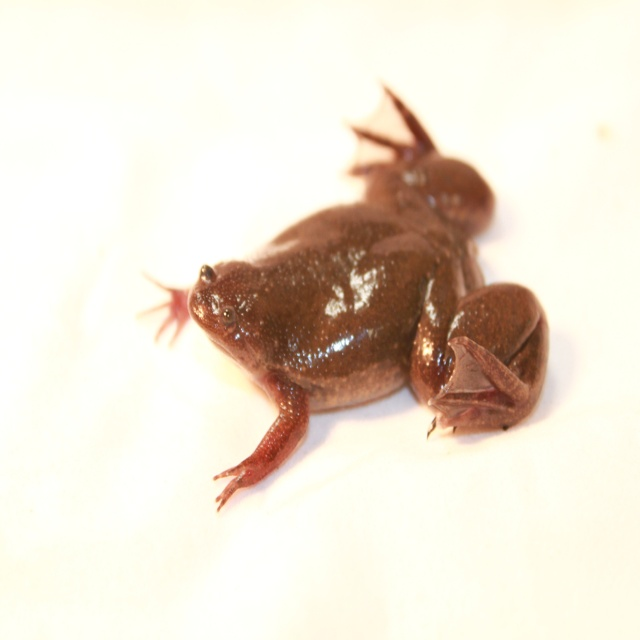Frog: (135, 81, 550, 517)
